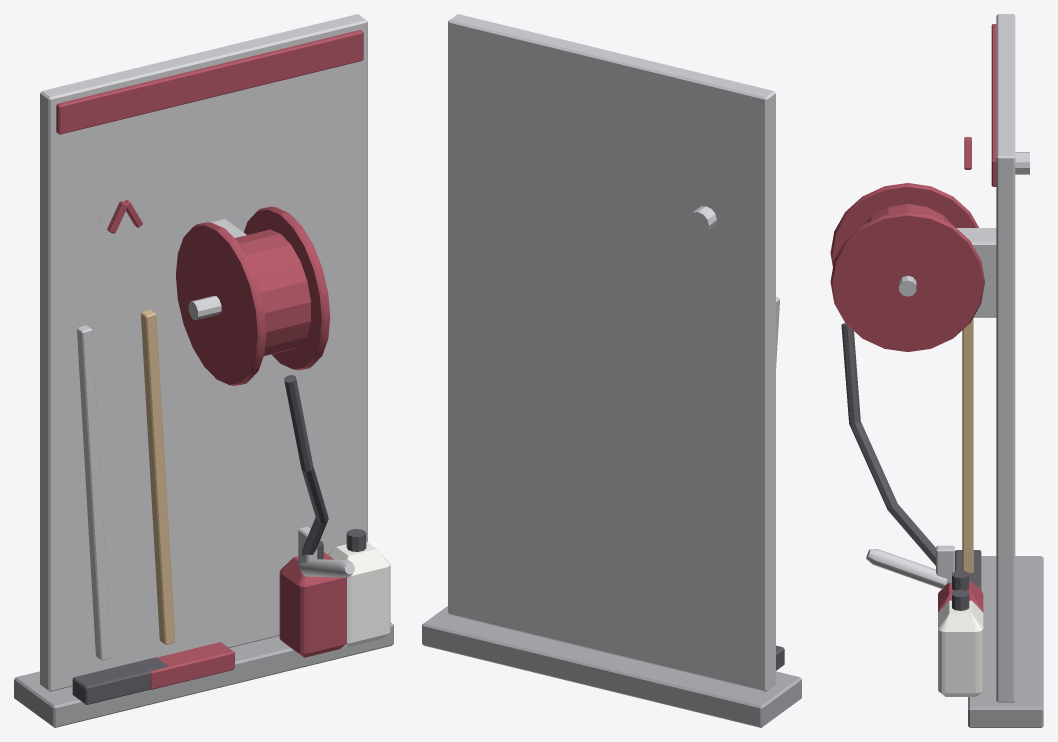
The picture shows the model from 3 angles, left to right: view 1: azimuth 30°, elevation 25°; view 2: azimuth 150°, elevation 25°; view 3: azimuth 270°, elevation 25°; orthographic projection. The views are drawn at different scales.
Visible parts, largest first — view 1: cleaning-station, reel-drum; view 2: cleaning-station; view 3: cleaning-station, reel-drum.
Part boxes in pixels (box(x1,y1,x2,y2)): cleaning-station: box(14, 14, 393, 727); reel-drum: box(176, 206, 330, 385); cleaning-station: box(422, 14, 801, 727); cleaning-station: box(841, 14, 1043, 727); reel-drum: box(830, 183, 984, 351).
Bounding box in the file's own units: 0.96 × 1.66 × 0.565.
